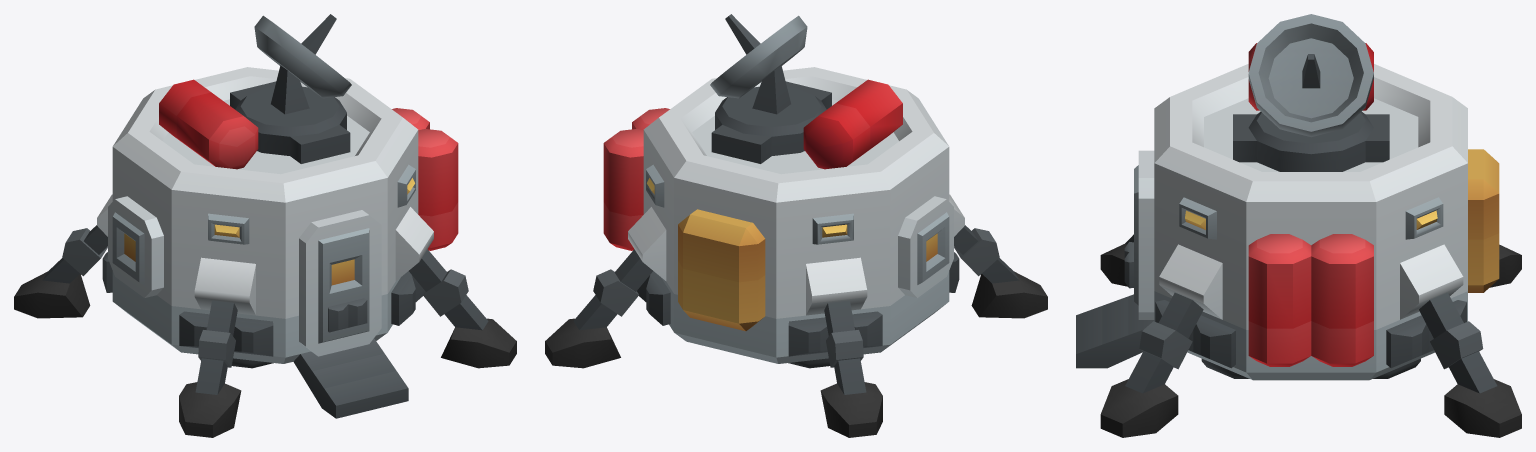
File: lander_a.glb
3 renders of one model, left to right at view 1: azimuth 30°, elevation 25°; view 2: azimuth 150°, elevation 25°; view 3: azimuth 270°, elevation 25°, orthographic. The views are drawn at different scales.
Parts seen in each view (by area): view 1: lander_A; view 2: lander_A; view 3: lander_A.
Boxes of the visible parts, <box> form: lander_A: <box>14,14,516,437</box>; lander_A: <box>545,14,1047,437</box>; lander_A: <box>1076,14,1521,437</box>.
Size of the model in its own units: 4.12 by 3.58 by 4.27.
Materials: 1 (1 with a texture image).
